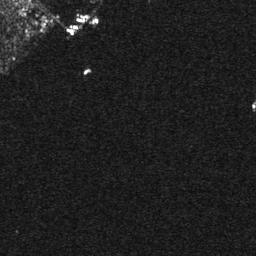ship: (91, 17, 100, 27), (75, 16, 87, 23), (65, 27, 74, 35), (83, 67, 91, 75), (70, 24, 78, 30), (80, 13, 89, 18)
